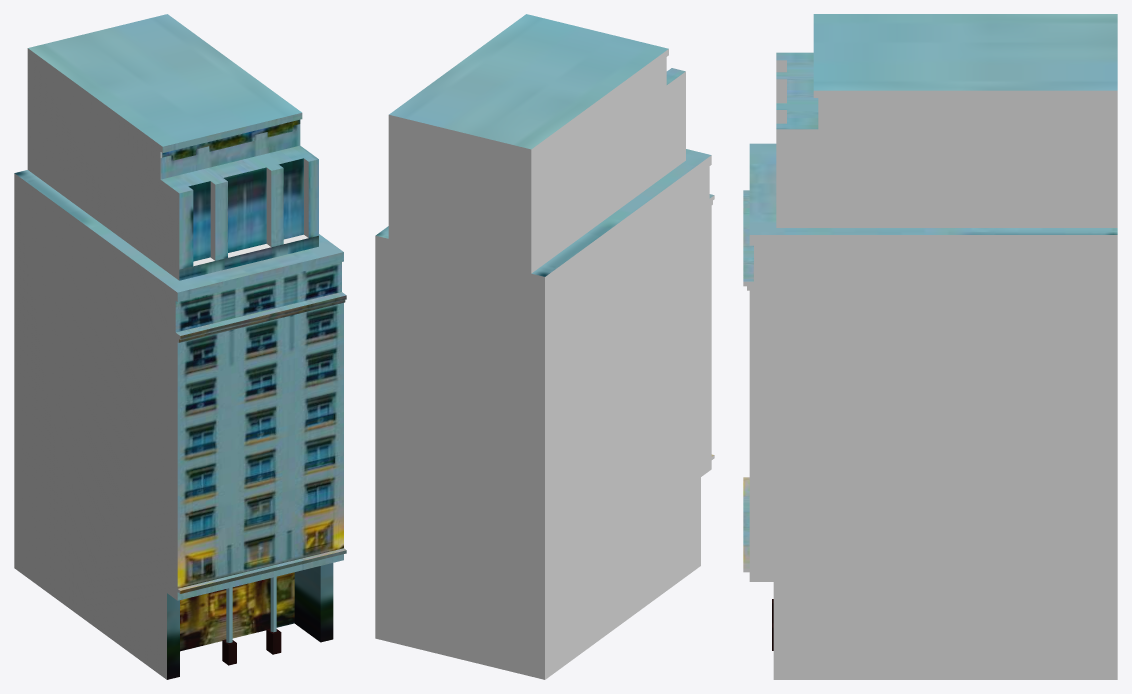
3 renders of one model, left to right at view 1: azimuth 30°, elevation 25°; view 2: azimuth 150°, elevation 25°; view 3: azimuth 270°, elevation 25°, orthographic. The views are drawn at different scales.
Parts seen in each view (by area): view 1: Rosaliza_Hotel; view 2: Rosaliza_Hotel; view 3: Rosaliza_Hotel.
Part boxes in pixels (x1,y1,x2,y2): Rosaliza_Hotel: (14,14,346,679); Rosaliza_Hotel: (375,14,714,679); Rosaliza_Hotel: (743,14,1117,679).
Size of the model in its own units: 10.02 by 29.74 by 17.32.
Materials: 1 (1 with a texture image).
